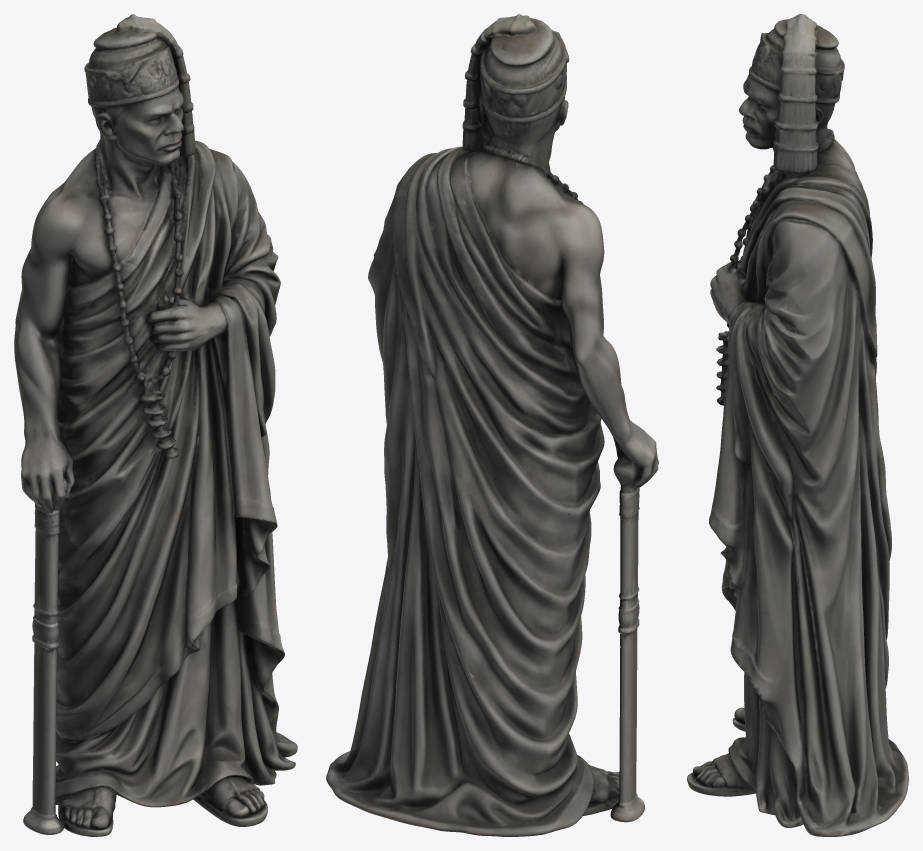
Rendered from Meshy_AI__Toffa_texture.glb.
The picture shows the model from 3 angles, left to right: view 1: azimuth 30°, elevation 25°; view 2: azimuth 150°, elevation 25°; view 3: azimuth 270°, elevation 25°; orthographic projection. The views are drawn at different scales.
Size of the model in its own units: 0.7893 by 2 by 0.5403.
1 material, 1 textured.
